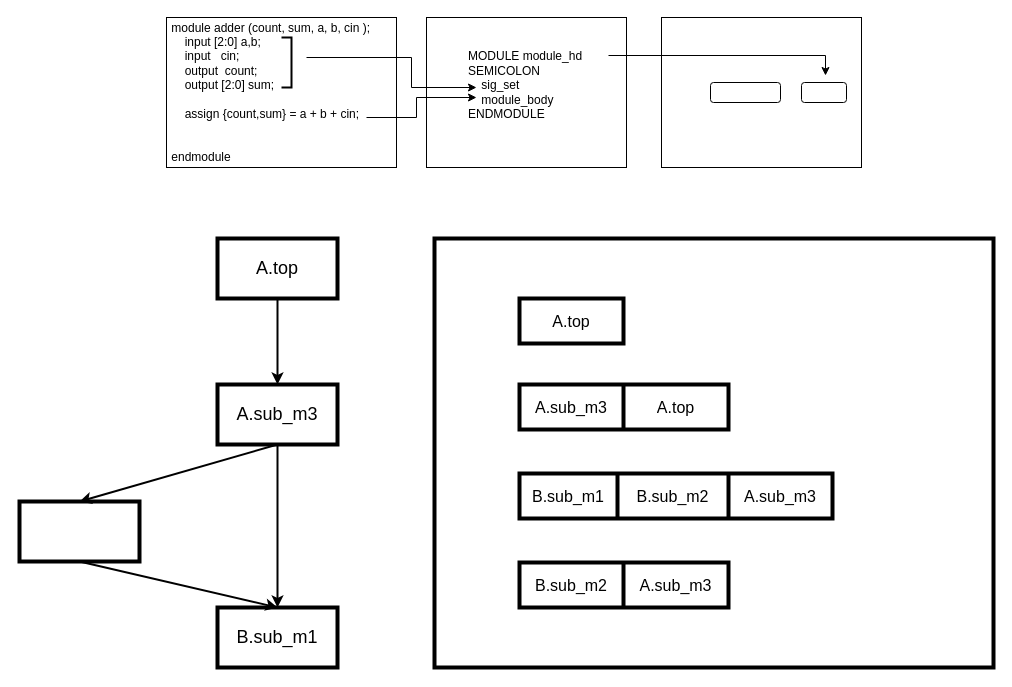
The diagram is 1012 pixels wide and 687 high, and some of its shapes have lost their labels. The centre of each missing label's shape, as x and y in pixels:
"B,sub_m2" belongs at [79,531].
"Module" belongs at [823,92].
"tpSubProg" belongs at [745,92].
